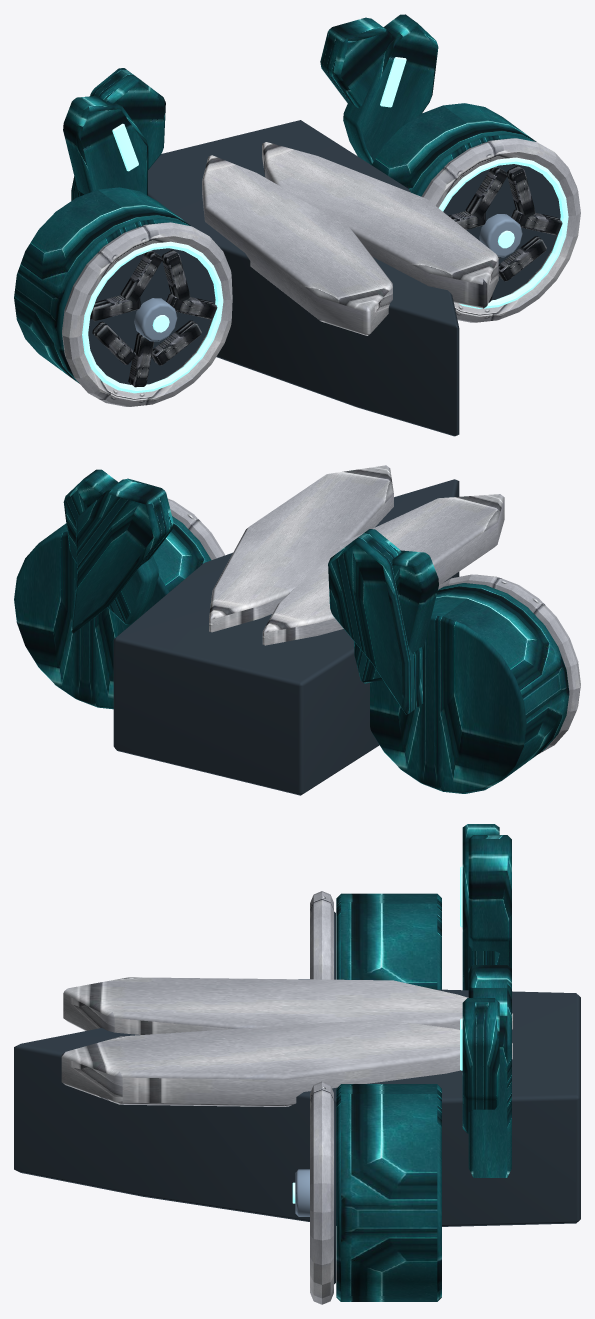
File: flyer.glb
3 renders of one model, top to bottom at view 1: azimuth 30°, elevation 25°; view 2: azimuth 150°, elevation 25°; view 3: azimuth 270°, elevation 25°, orthographic. The views are drawn at different scales.
Visible parts, largest first — view 1: Split arrow nose, Pointed interceptor chassis, Swept dorsal vane, Turbine impeller blade, Turbine running light, Turbine hub, Fin light strip; view 2: Swept dorsal vane, Pointed interceptor chassis, Split arrow nose; view 3: Pointed interceptor chassis, Split arrow nose, Swept dorsal vane, Turbine hub.
Boxes of the visible parts, x1,y1,x2,y2 form: Split arrow nose: (62, 138, 580, 406); Pointed interceptor chassis: (88, 120, 560, 436); Swept dorsal vane: (14, 14, 536, 383); Turbine impeller blade: (90, 165, 562, 387); Turbine running light: (82, 157, 568, 393); Turbine hub: (134, 214, 522, 341); Fin light strip: (112, 57, 406, 171); Swept dorsal vane: (14, 469, 569, 793); Pointed interceptor chassis: (113, 479, 459, 795); Split arrow nose: (168, 465, 580, 753); Pointed interceptor chassis: (14, 911, 580, 1284); Split arrow nose: (61, 891, 513, 1304); Swept dorsal vane: (336, 824, 511, 1301); Turbine hub: (295, 979, 309, 1216).
Size of the model in its own units: 1.47 by 0.7152 by 1.23.
Materials: 7 (3 with a texture image).
